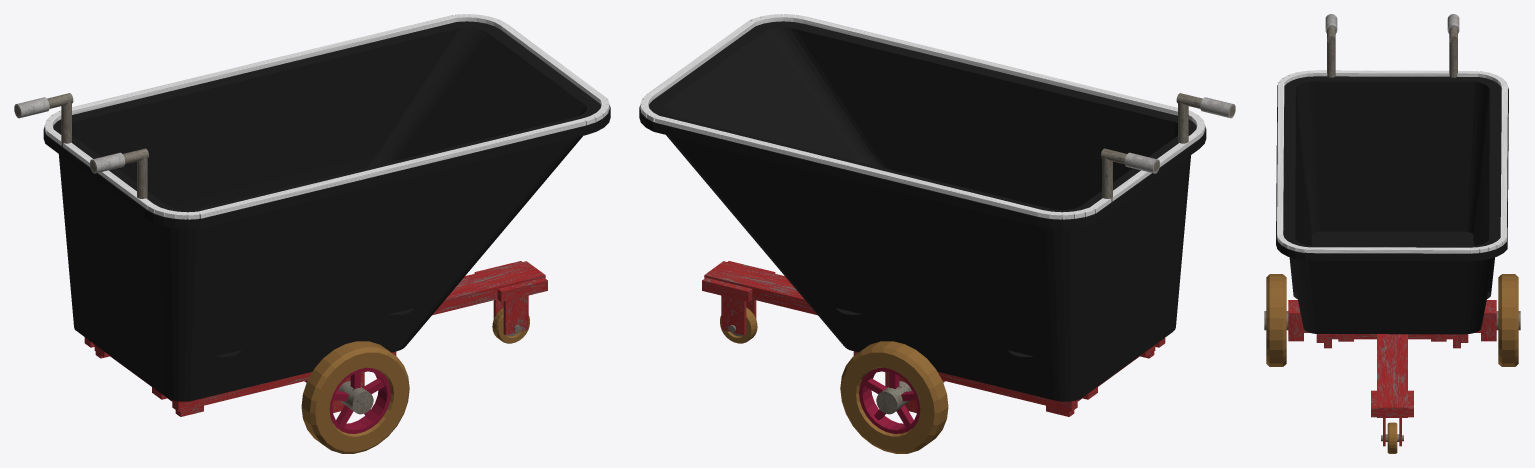
The model's file is Urban_Environment_Tilt_Truck1__0000.glb.
3 views of the same model, side by side, from view 1: azimuth 30°, elevation 25°; view 2: azimuth 150°, elevation 25°; view 3: azimuth 270°, elevation 25° (orthographic). The views are drawn at different scales.
Visible parts, largest first — view 1: cargo_shell::shell_form__tapered_rect__hopper, rear_wheel_0::rear_wheel__spoked_rim__tyre_0, cargo_shell::lid__open_top__lip_bead_23, cargo_shell::lid__open_top__lip_bead_11, chassis::chassis__front_spine, rear_wheel_0::rear_wheel__spoked_rim__rim_barrel_0, chassis::underframe__rail_cradle__side_rail_0, cargo_shell::lid__open_top__lip_bead_5, cargo_shell::lid__open_top__lip_bead_17, chassis::front_support__rigid_fork__cheek_0, chassis::chassis__front_mount_plate, rear_wheel_0::rear_wheel__spoked_rim__hub_boss_0; view 2: cargo_shell::shell_form__tapered_rect__hopper, rear_wheel_1::rear_wheel__spoked_rim__tyre_1, cargo_shell::lid__open_top__lip_bead_11, cargo_shell::lid__open_top__lip_bead_23, chassis::chassis__front_spine, rear_wheel_1::rear_wheel__spoked_rim__rim_barrel_1, chassis::underframe__rail_cradle__side_rail_1, cargo_shell::lid__open_top__lip_bead_5, cargo_shell::lid__open_top__lip_bead_17, chassis::front_support__rigid_fork__cheek_1, chassis::chassis__front_mount_plate, rear_wheel_1::rear_wheel__spoked_rim__hub_boss_1; view 3: cargo_shell::shell_form__tapered_rect__hopper, chassis::chassis__front_spine, rear_wheel_0::rear_wheel__spoked_rim__tyre_0, rear_wheel_1::rear_wheel__spoked_rim__tyre_1, cargo_shell::lid__open_top__lip_bead_5, cargo_shell::lid__open_top__lip_bead_23, cargo_shell::lid__open_top__lip_bead_11, cargo_shell::lid__open_top__lip_bead_17, chassis::chassis__bearing_block_1, chassis::chassis__bearing_block_0, chassis::chassis__deck_crossmember_2, front_wheel::front_support__front_tyre (+3 smaller).
Part boxes in pixels (<box>): cargo_shell::shell_form__tapered_rect__hopper: <box>43,21,610,401</box>; rear_wheel_0::rear_wheel__spoked_rim__tyre_0: <box>301,341,409,453</box>; cargo_shell::lid__open_top__lip_bead_23: <box>198,118,585,218</box>; cargo_shell::lid__open_top__lip_bead_11: <box>72,15,456,114</box>; chassis::chassis__front_spine: <box>432,261,545,315</box>; rear_wheel_0::rear_wheel__spoked_rim__rim_barrel_0: <box>329,367,390,433</box>; chassis::underframe__rail_cradle__side_rail_0: <box>172,351,396,411</box>; cargo_shell::lid__open_top__lip_bead_5: <box>501,24,607,103</box>; cargo_shell::lid__open_top__lip_bead_17: <box>46,129,152,209</box>; chassis::front_support__rigid_fork__cheek_0: <box>503,295,528,335</box>; chassis::chassis__front_mount_plate: <box>474,261,547,301</box>; rear_wheel_0::rear_wheel__spoked_rim__hub_boss_0: <box>338,381,373,414</box>; cargo_shell::shell_form__tapered_rect__hopper: <box>639,21,1206,401</box>; rear_wheel_1::rear_wheel__spoked_rim__tyre_1: <box>840,341,948,453</box>; cargo_shell::lid__open_top__lip_bead_11: <box>655,116,1041,216</box>; cargo_shell::lid__open_top__lip_bead_23: <box>803,16,1190,115</box>; chassis::chassis__front_spine: <box>704,261,817,315</box>; rear_wheel_1::rear_wheel__spoked_rim__rim_barrel_1: <box>859,367,920,433</box>; chassis::underframe__rail_cradle__side_rail_1: <box>853,351,1077,411</box>; cargo_shell::lid__open_top__lip_bead_5: <box>647,20,755,99</box>; cargo_shell::lid__open_top__lip_bead_17: <box>1090,134,1198,213</box>; chassis::front_support__rigid_fork__cheek_1: <box>721,295,746,335</box>; chassis::chassis__front_mount_plate: <box>702,261,775,301</box>; rear_wheel_1::rear_wheel__spoked_rim__hub_boss_1: <box>876,381,911,414</box>; cargo_shell::shell_form__tapered_rect__hopper: <box>1276,76,1508,334</box>; chassis::chassis__front_spine: <box>1377,334,1407,417</box>; rear_wheel_0::rear_wheel__spoked_rim__tyre_0: <box>1266,274,1286,366</box>; rear_wheel_1::rear_wheel__spoked_rim__tyre_1: <box>1498,274,1518,366</box>; cargo_shell::lid__open_top__lip_bead_5: <box>1306,247,1469,253</box>; cargo_shell::lid__open_top__lip_bead_23: <box>1277,82,1284,234</box>; cargo_shell::lid__open_top__lip_bead_11: <box>1500,86,1507,240</box>; cargo_shell::lid__open_top__lip_bead_17: <box>1315,70,1478,76</box>; chassis::chassis__bearing_block_1: <box>1481,300,1496,341</box>; chassis::chassis__bearing_block_0: <box>1288,300,1303,341</box>; chassis::chassis__deck_crossmember_2: <box>1326,334,1458,339</box>; front_wheel::front_support__front_tyre: <box>1387,422,1397,453</box>.
Size of the model in its own units: 1.51 by 0.9234 by 0.8285.
Materials: 8 (6 with a texture image).
